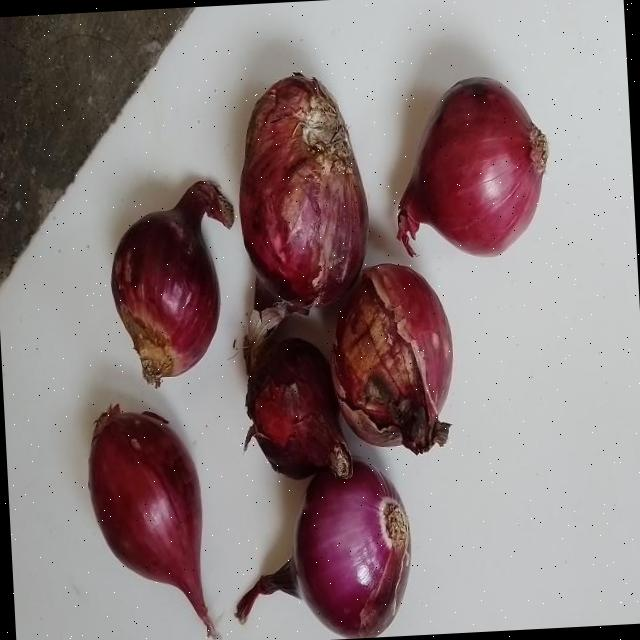Onion: (235, 460, 411, 639), (88, 404, 218, 639), (241, 72, 368, 306), (398, 75, 549, 255), (111, 179, 234, 386), (331, 262, 452, 453), (246, 337, 353, 479)
